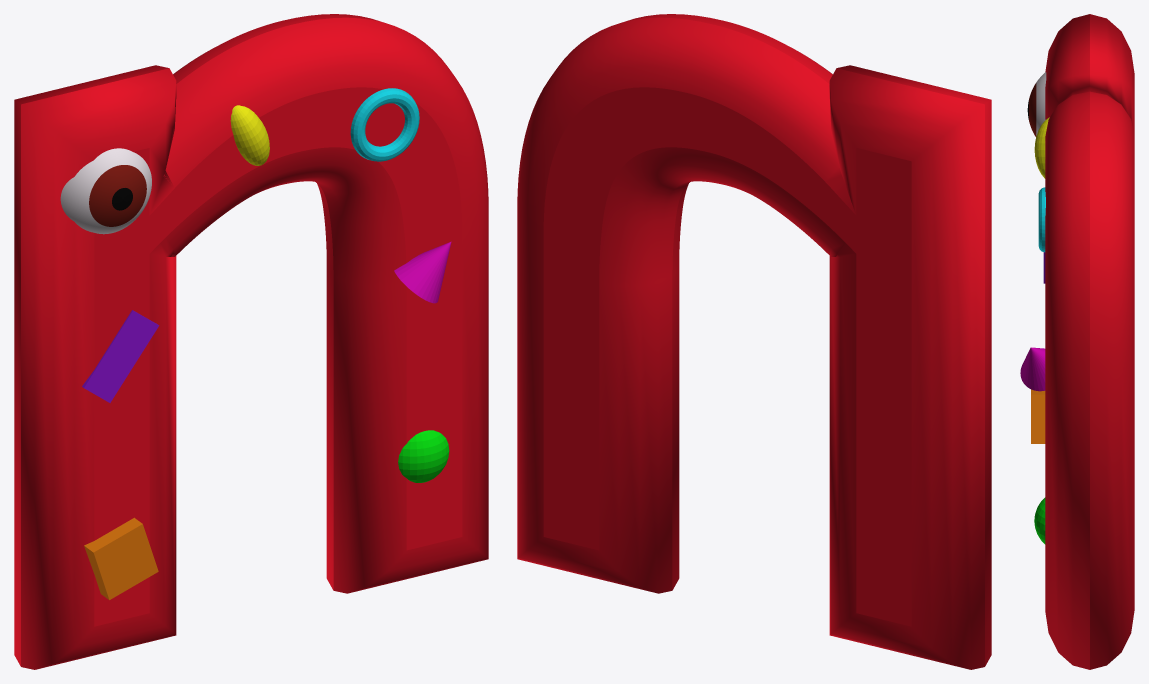
File: n_red.fbx
The picture shows the model from 3 angles, left to right: view 1: azimuth 30°, elevation 25°; view 2: azimuth 150°, elevation 25°; view 3: azimuth 270°, elevation 25°; orthographic projection. The views are drawn at different scales.
Visible parts, largest first — view 1: Text, Sphere, Cube, Cube.001, Torus.001, Sphere.001, Cone, Sphere.002; view 2: Text; view 3: Text, Cone, Sphere, Cube, Sphere.002, Torus.001, Sphere.001.
Boxes of the visible parts, x1,y1,x2,y2 form: Text: (14,14,488,669); Sphere: (60,148,151,234); Cube: (84,517,158,599); Cube.001: (82,310,159,402); Torus.001: (350,88,419,161); Sphere.001: (398,430,449,482); Cone: (394,241,451,303); Sphere.002: (230,105,269,165); Text: (517,14,991,669); Text: (1045,14,1134,669); Cone: (1020,347,1045,391); Sphere: (1027,72,1046,136); Cube: (1031,389,1045,443); Sphere.002: (1034,117,1049,178); Torus.001: (1038,187,1045,252); Sphere.001: (1034,497,1045,544).
Size of the model in its own units: 97.94 by 117 by 25.21.
